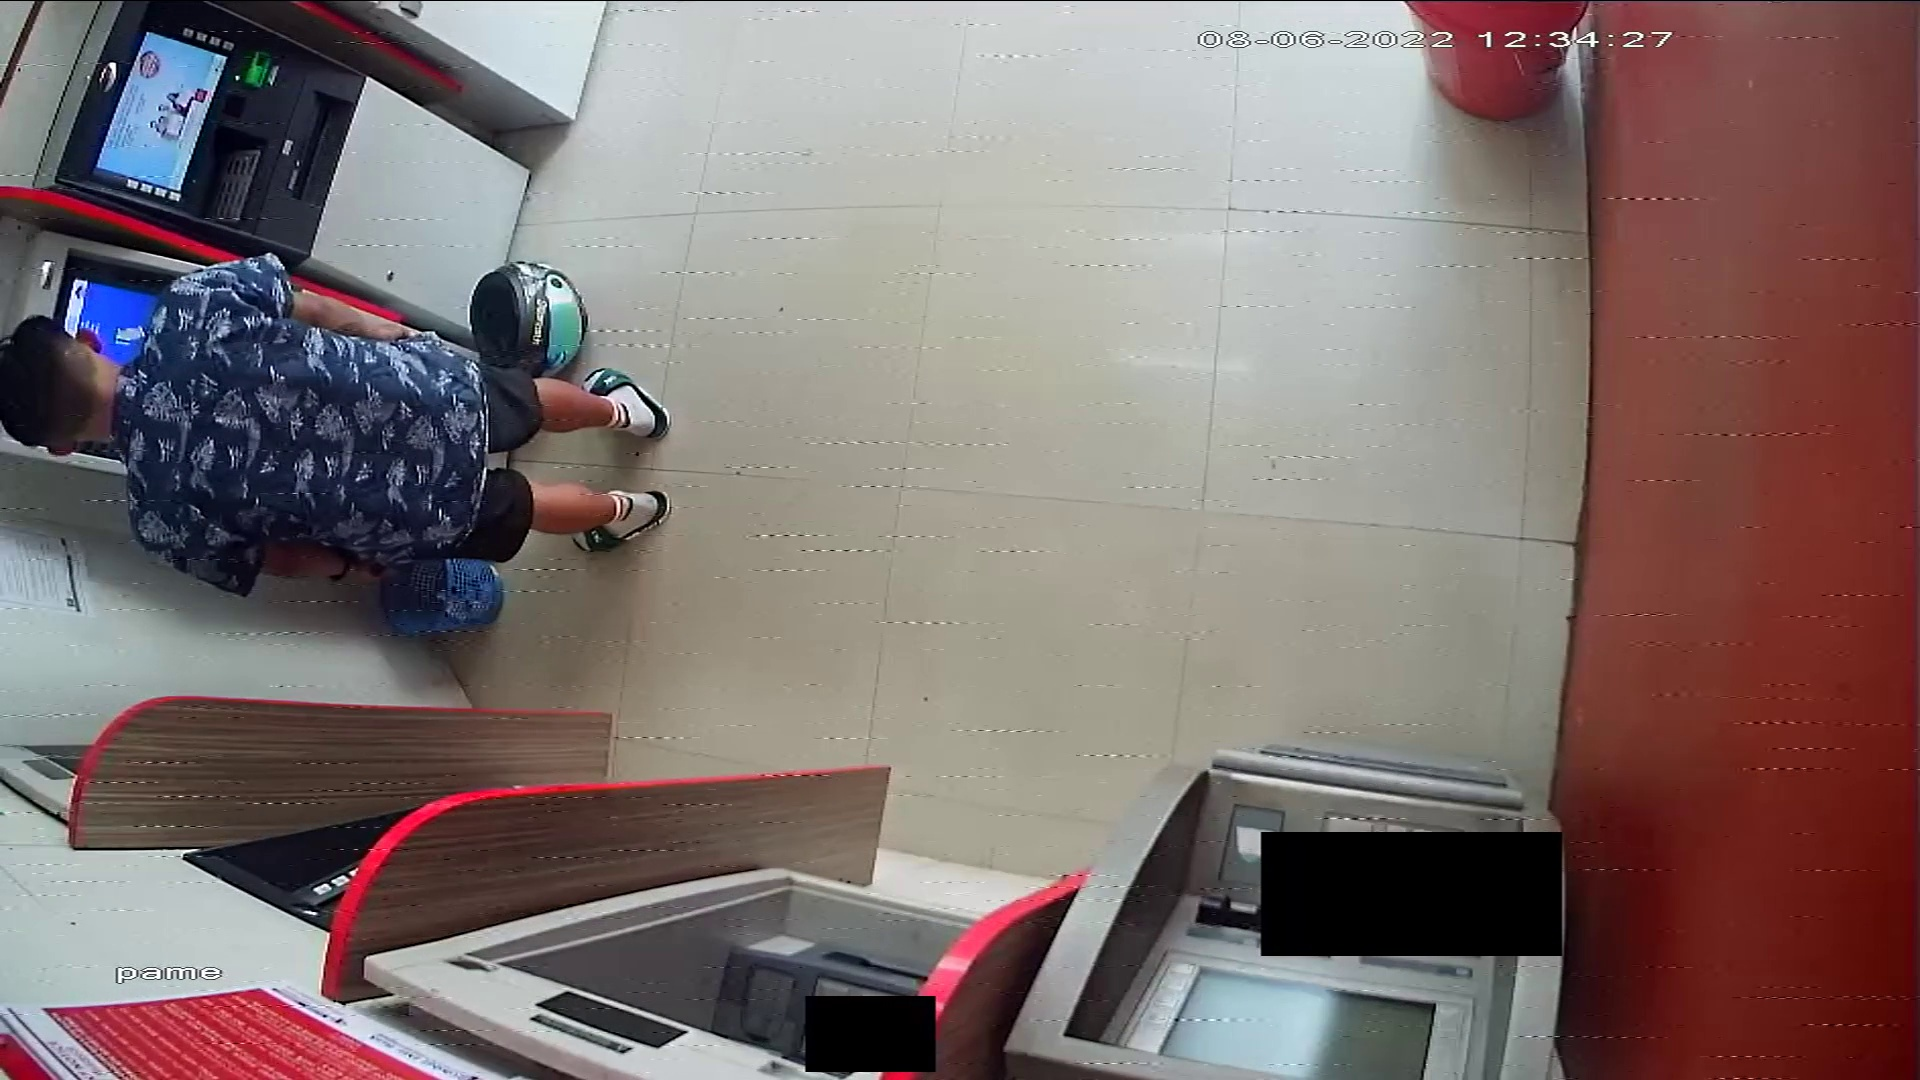helmet: (471, 262, 585, 376)
person: (1, 252, 671, 600)
